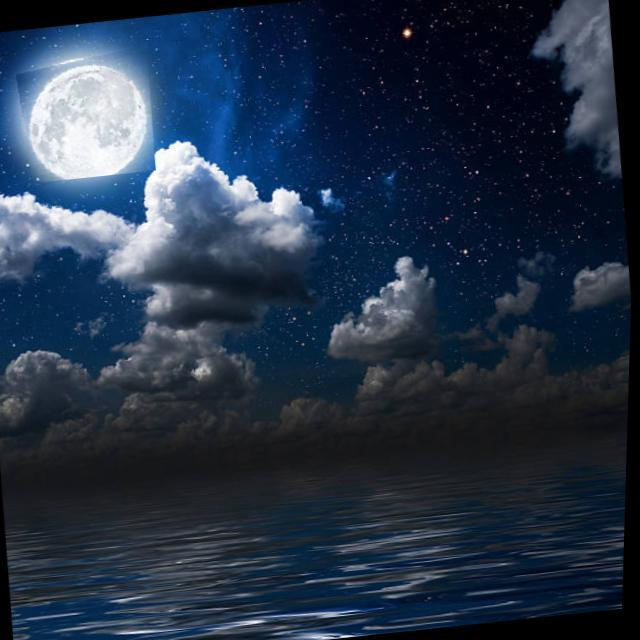moon: (12, 44, 159, 184)
